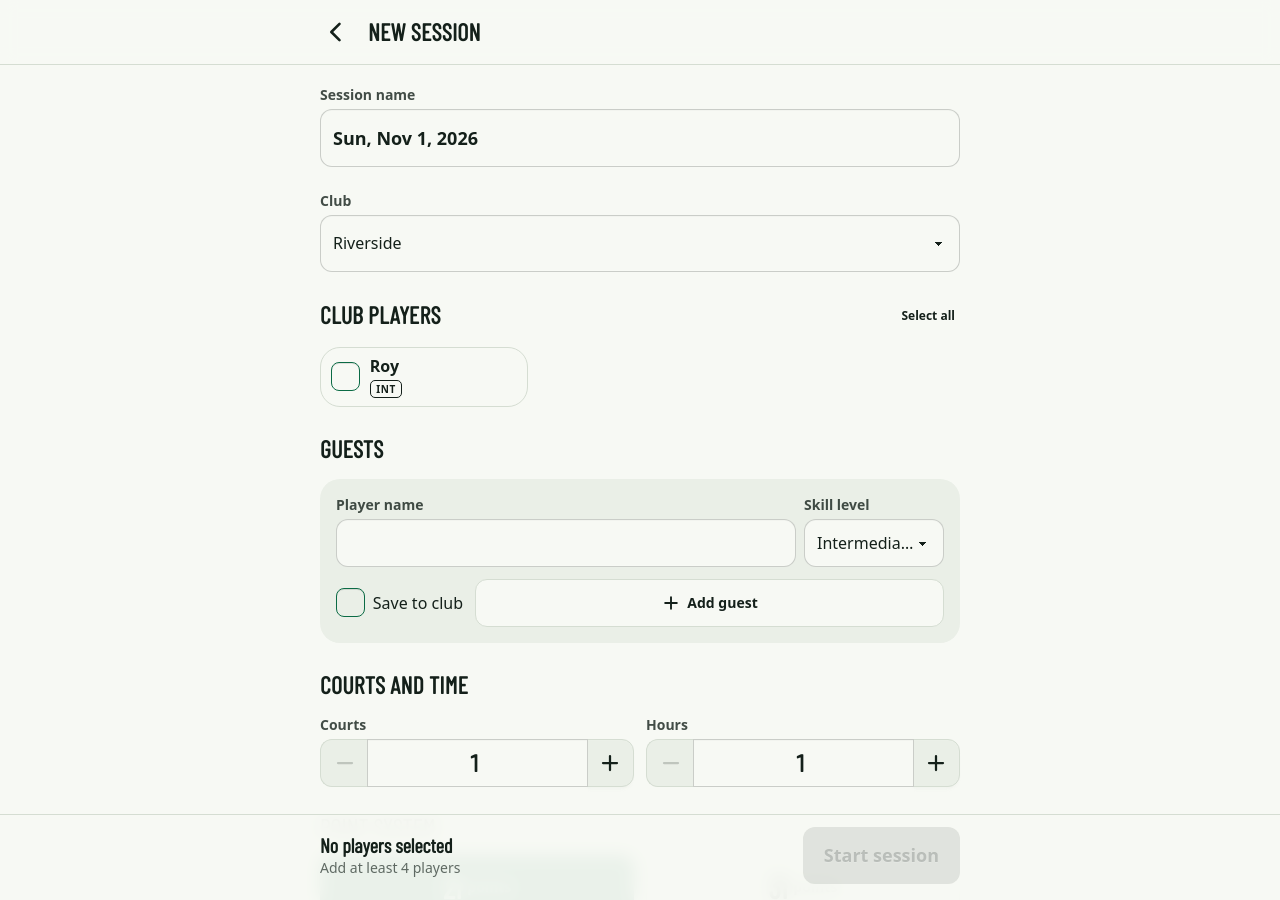
Test case: New session with a Shared club › warns, while offline, that guests marked Save to club won't be saved to the Club
In the field labelled "Player name": (566, 543) x1=336 y1=519 x2=796 y2=567, type "Kim"
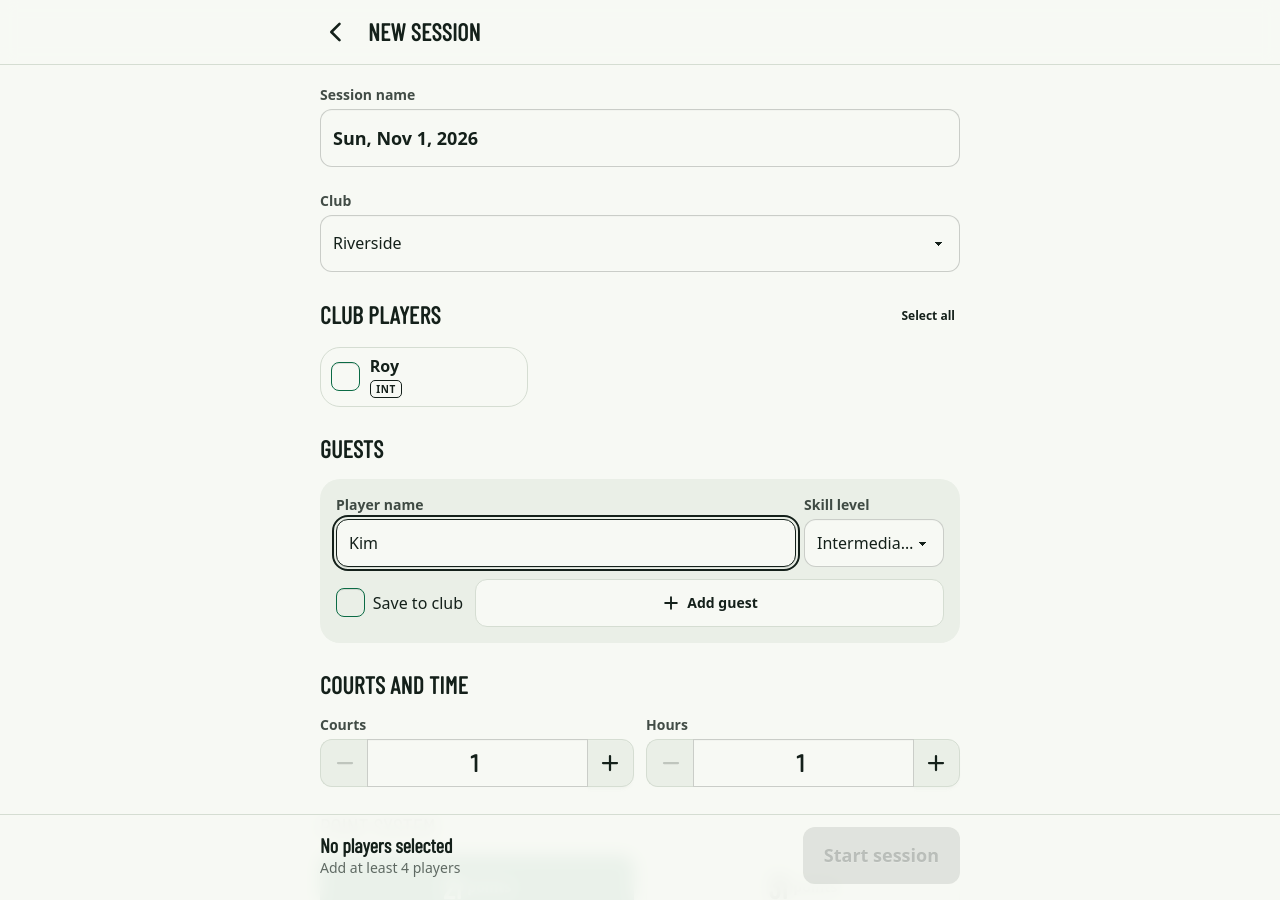
Click the checkbox labelled "Save to club": (350, 603) x1=336 y1=588 x2=365 y2=617
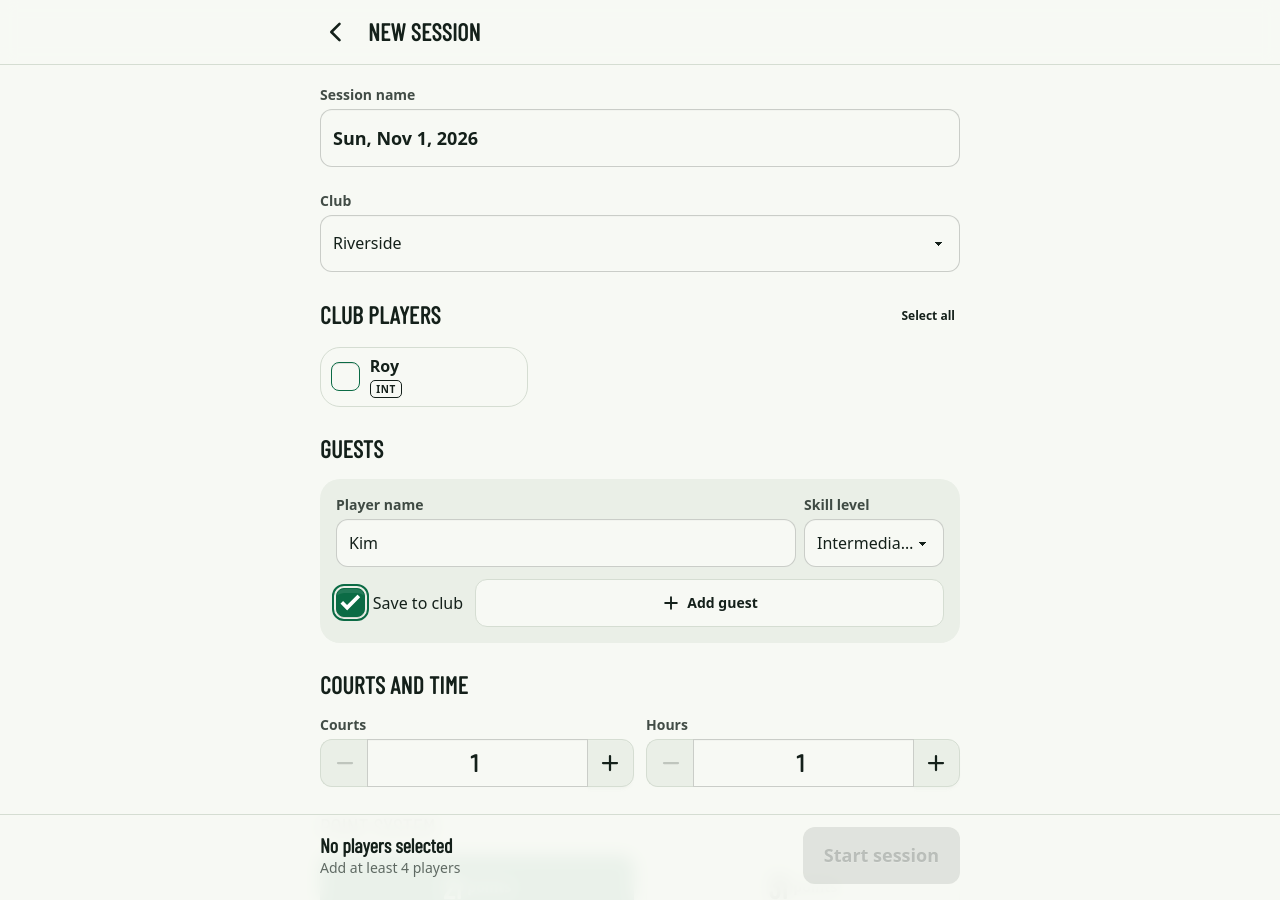
Click the button "Add guest": (710, 603) x1=475 y1=579 x2=944 y2=627
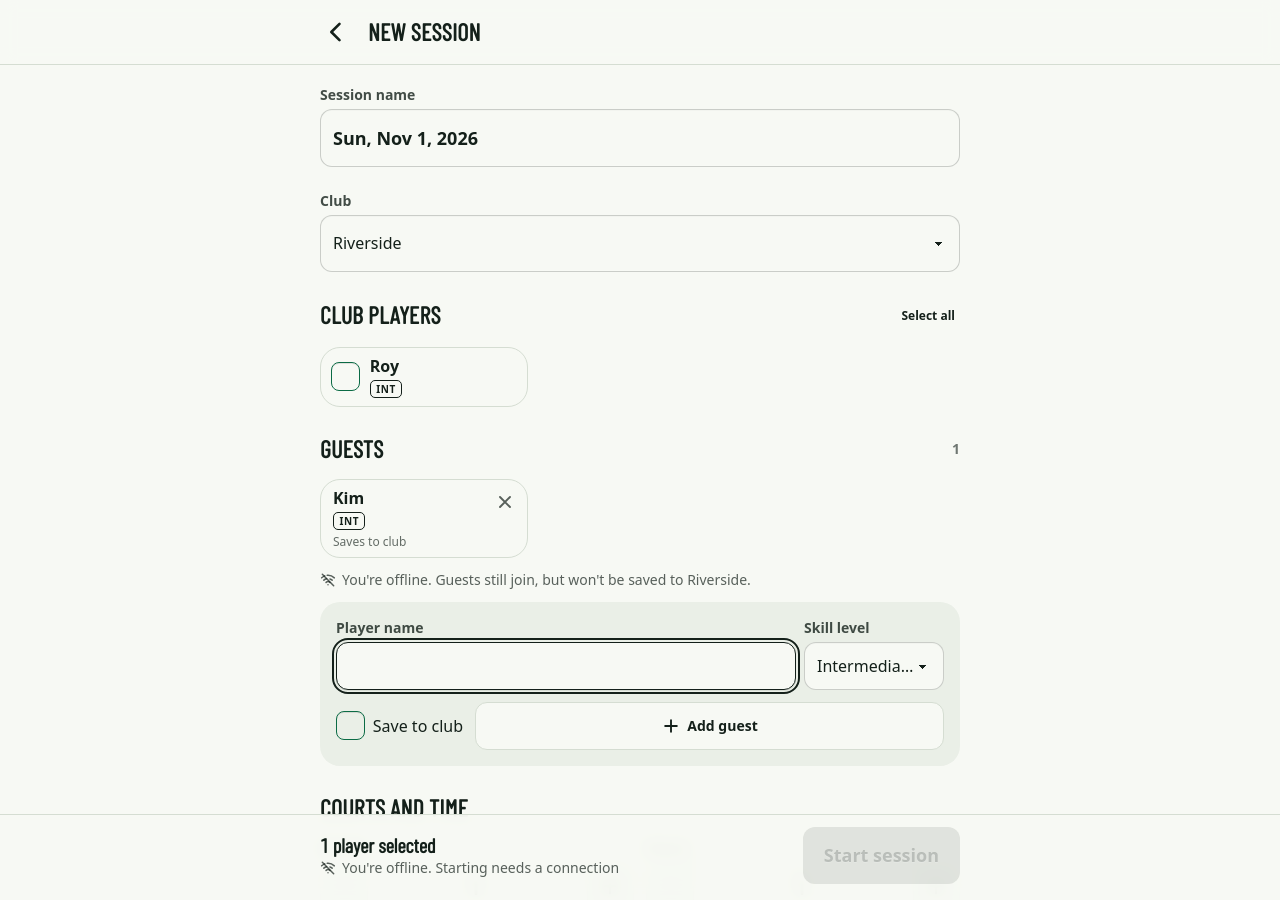
Check: the message reads "You're offline. Guests still join, but won't be saved to Riverside.", box x1=320 y1=570 x2=751 y2=589
